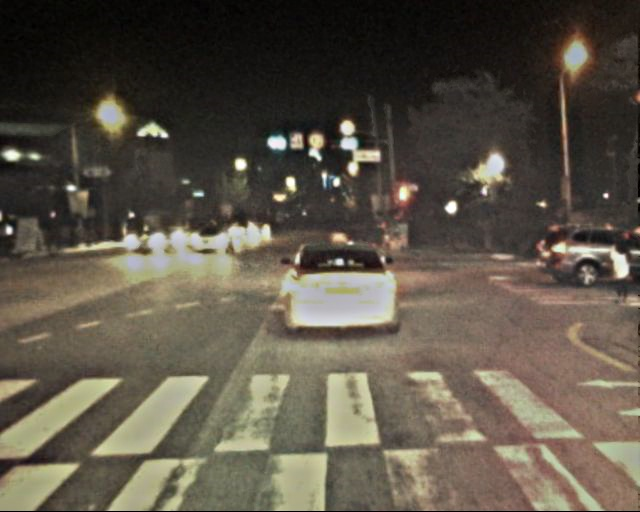person: (603, 233, 634, 309)
